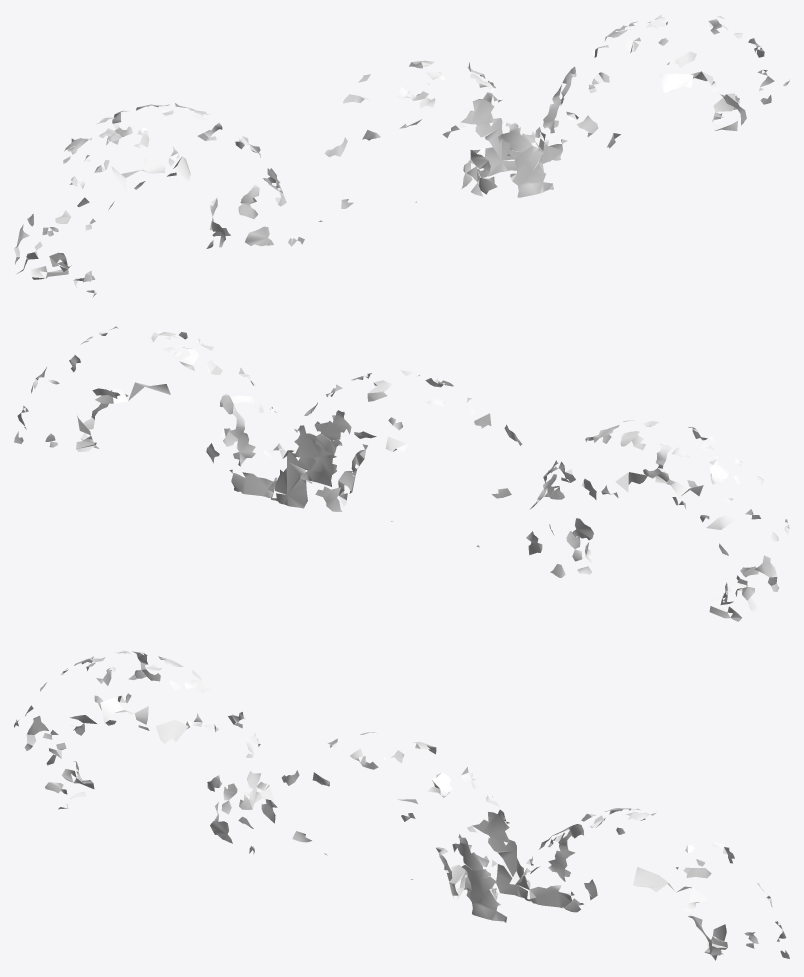
3 views of the same model, one above another, from view 1: azimuth 30°, elevation 25°; view 2: azimuth 150°, elevation 25°; view 3: azimuth 330°, elevation 25° (orthographic).
Bounding box in the file's own units: 1.93 × 0.38 × 0.1873.
Materials: 1 (1 with a texture image).
